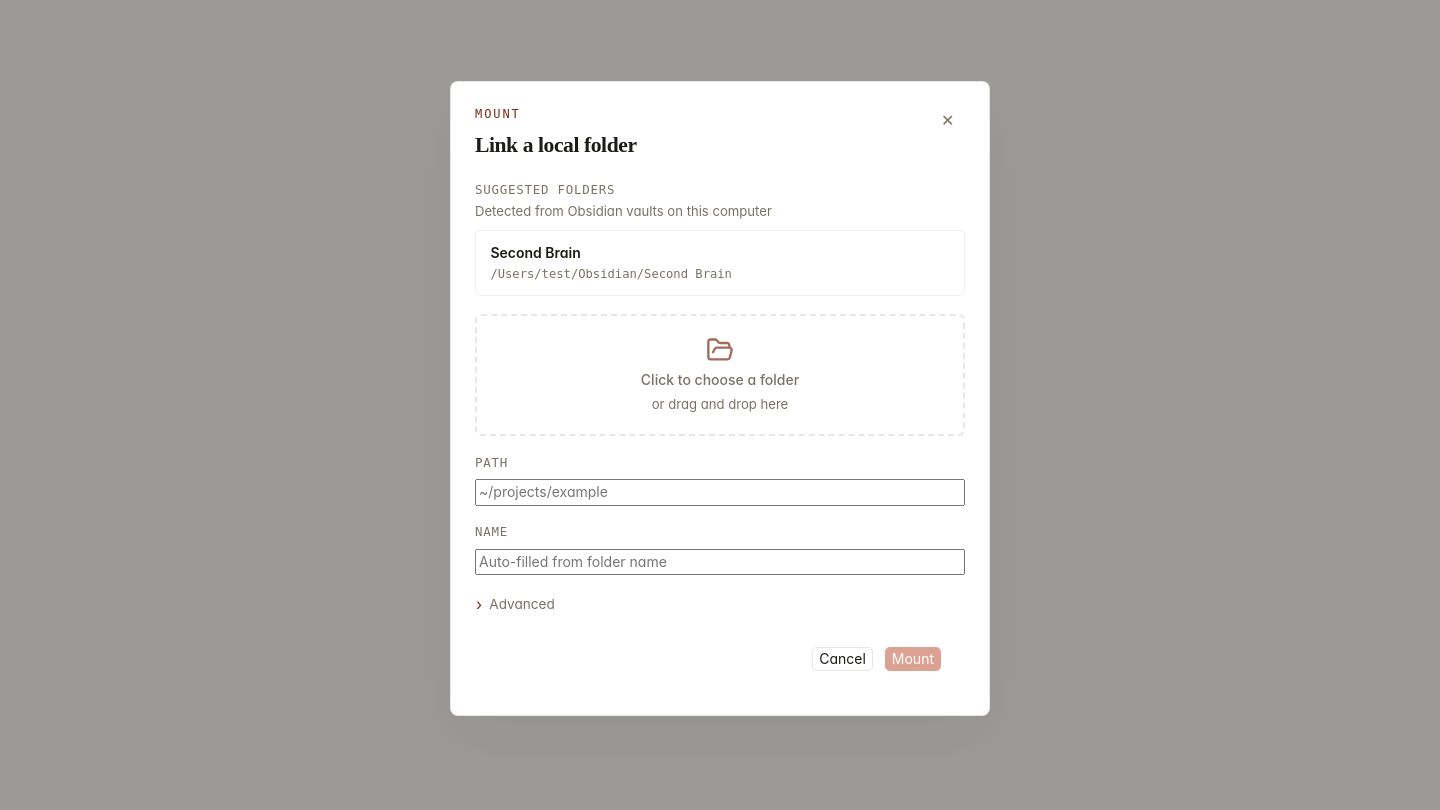
Test: MountModal › renders suggested Obsidian folders and applies one on click
Click the button "Second Brain /Users/test/Obsidian/Second Brain".
click(536, 253)  # box [475,230,965,296]
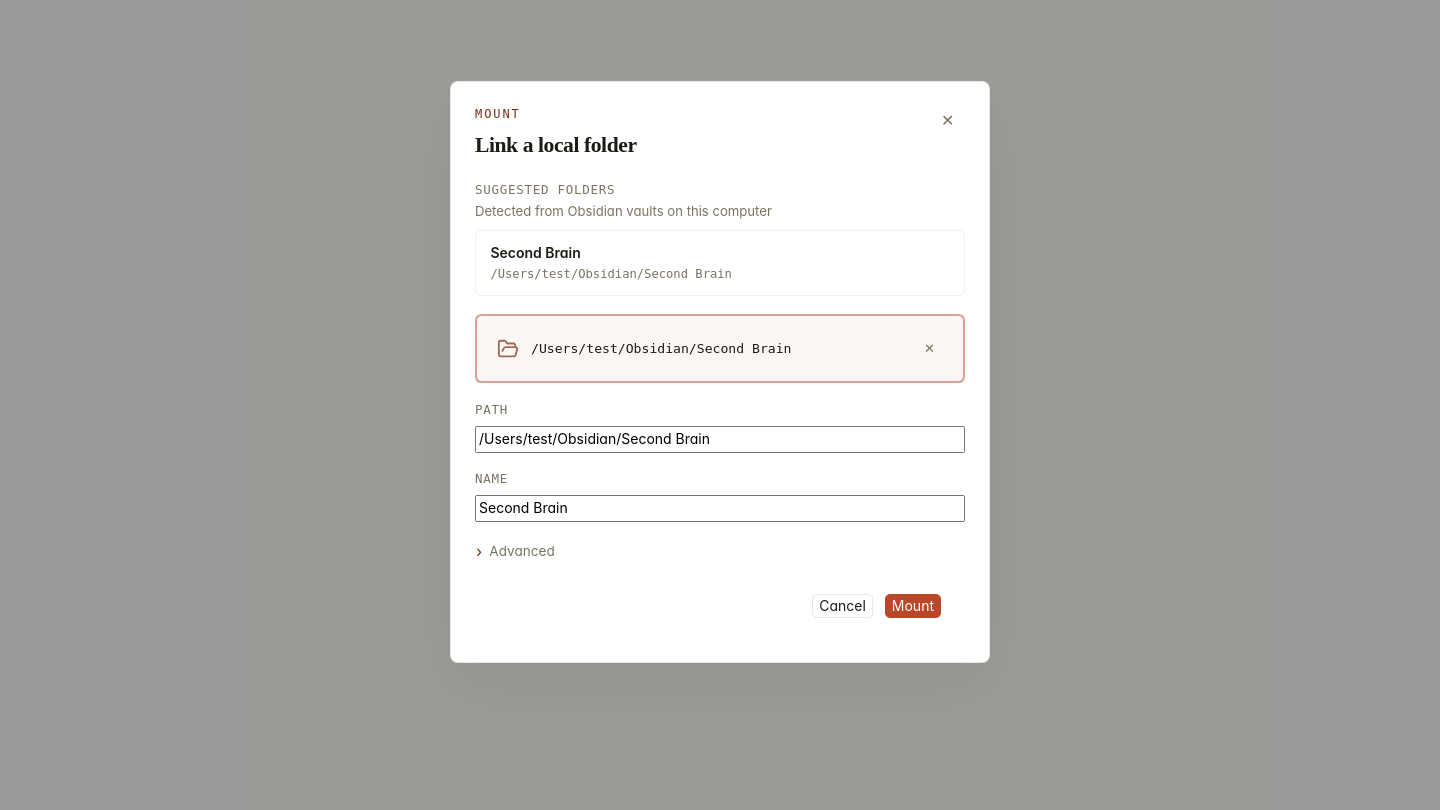
Expected: the field showing "/Users/test/Obsidian/Second Brain" is shown, [475,426,965,452]
